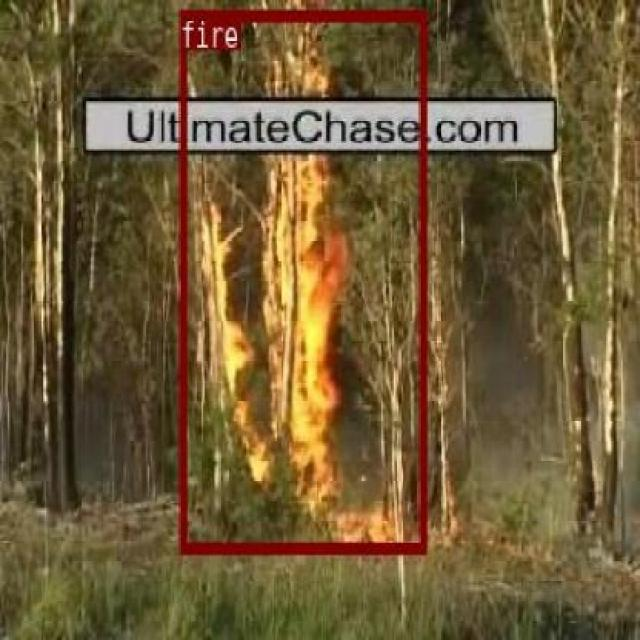fire: (178, 10, 426, 552)
